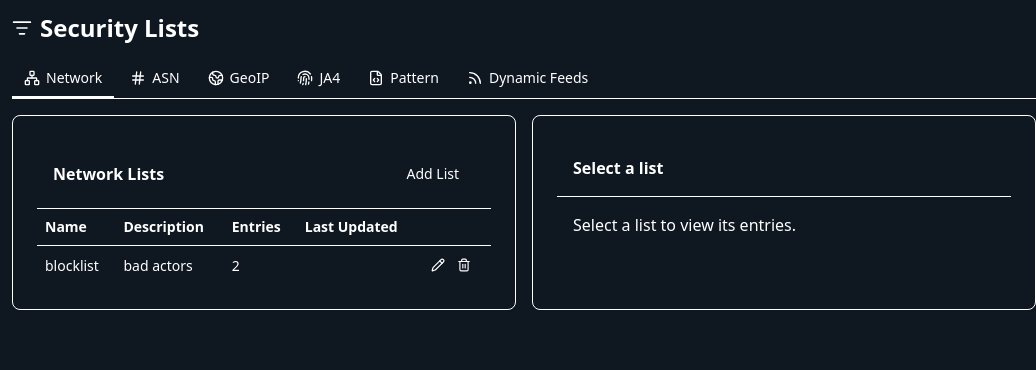
SecurityLists page › switches to JA4 tab and shows JA4 lists
Check: the text "blocklist" is shown, box [37, 246, 115, 285]
Click the button "JA4".
click(319, 79)  # box [285, 60, 352, 98]
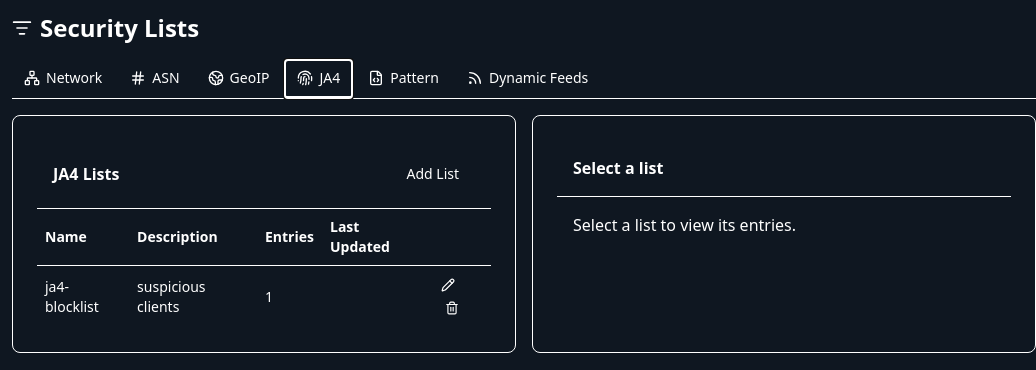
Check: the text "ja4-blocklist" is shown, box [37, 266, 129, 328]
Check: the text "suspicious clients" is shown, box [129, 266, 257, 328]
